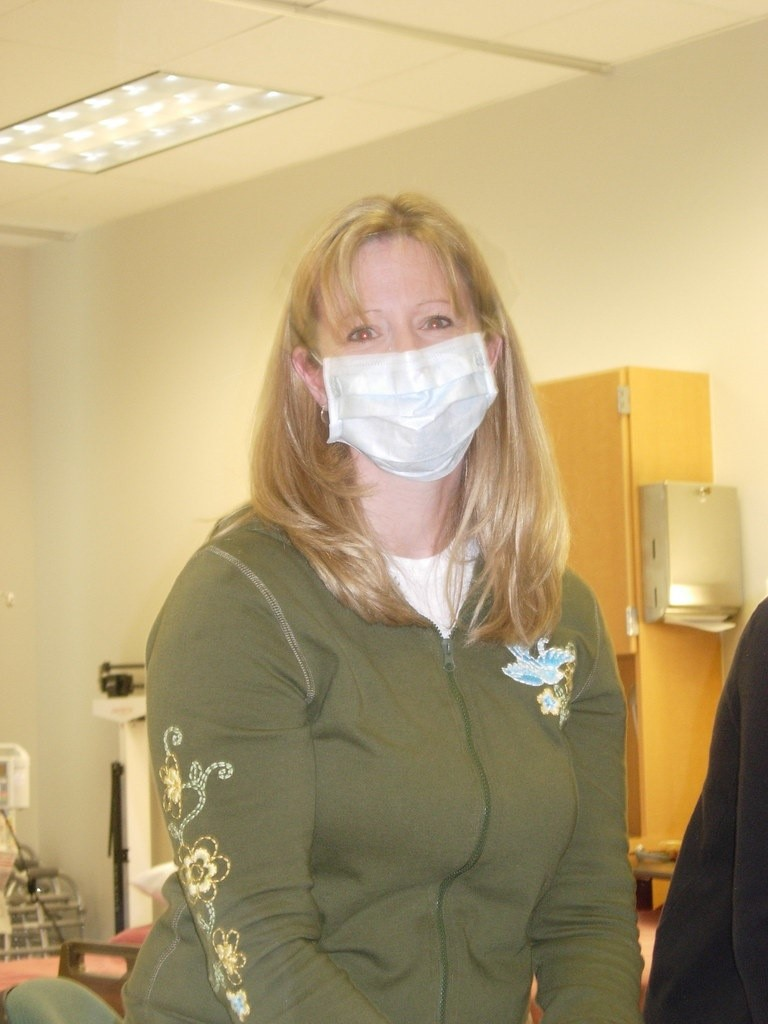face_with_mask: (288, 210, 504, 483)
